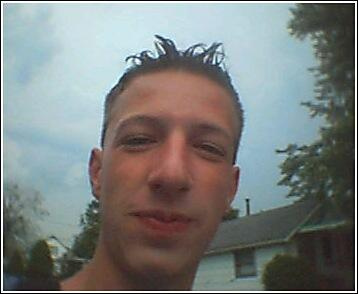without_mask: (88, 63, 249, 285)
